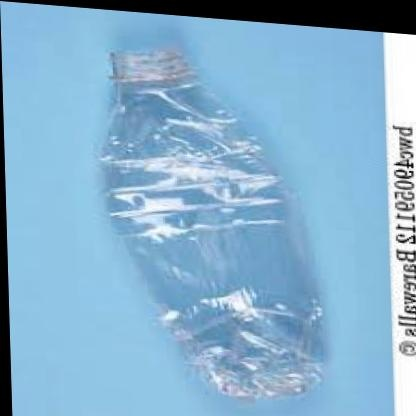trash: (101, 49, 321, 399)
